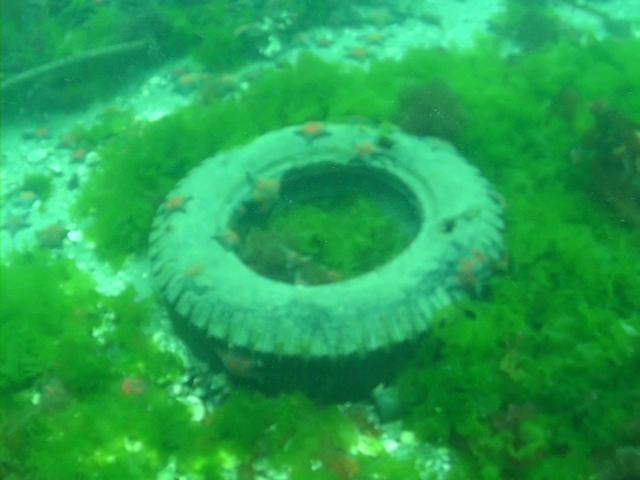tire: (148, 120, 505, 404)
